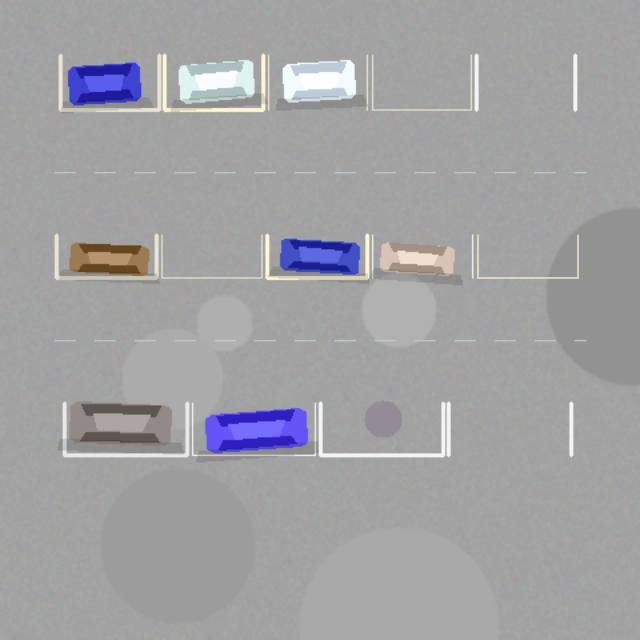space-empty: (320, 403, 443, 455), (448, 403, 571, 455), (372, 55, 471, 109), (476, 55, 575, 109), (161, 235, 261, 277), (477, 235, 577, 277)
space-occupied: (64, 403, 187, 455), (192, 403, 315, 455), (60, 55, 159, 109), (164, 55, 263, 109), (268, 55, 367, 109), (56, 235, 156, 277), (267, 235, 367, 277), (372, 235, 472, 277)
